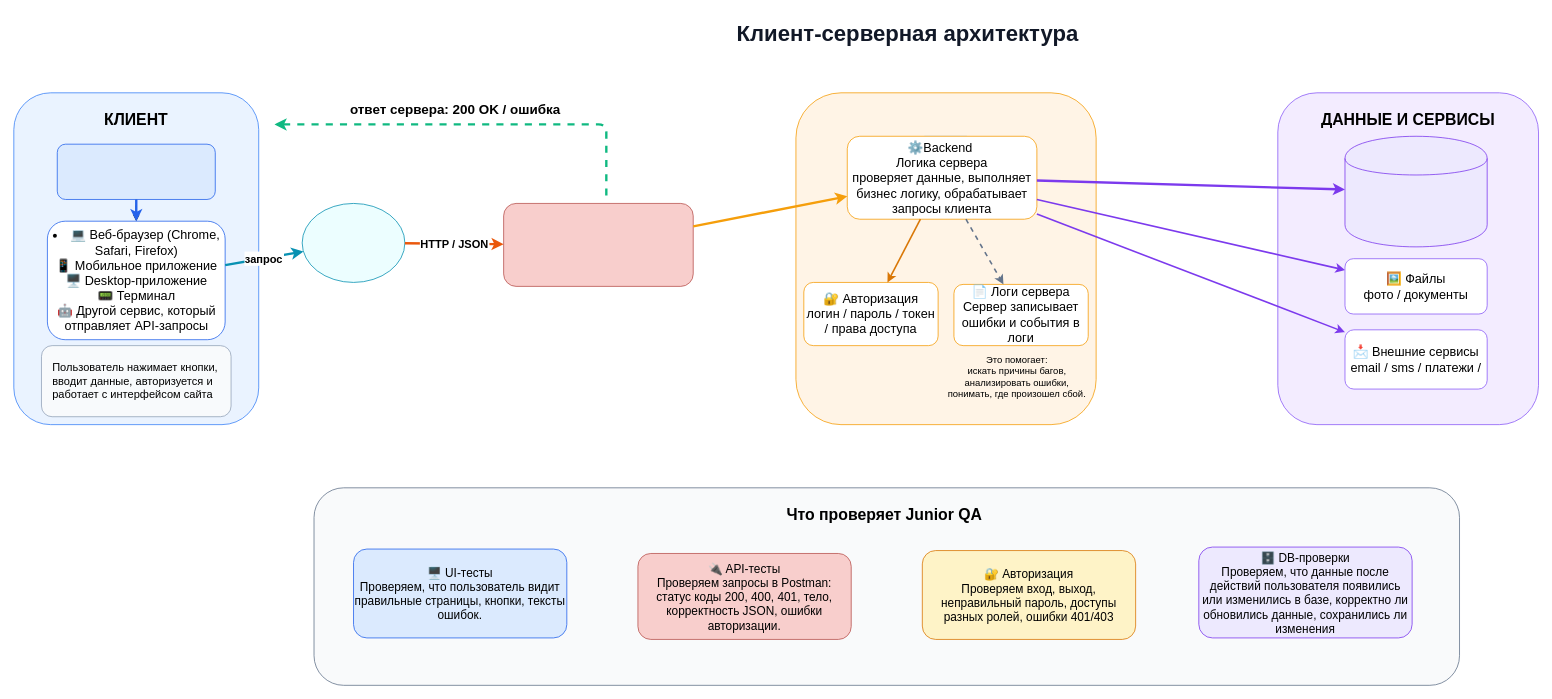
The diagram is 1552 pixels wide and 699 high, and some of its shapes have lost their labels. The shapes that lost their labels are listed below. From the top down, each one's centre as x and y in pixels, then its label:
(135,171): 👤 Пользователь
(1415,191): 🗄️ База данных ( нап. пользователи, заказы, платежи, товары)
(353,242): 🌐 HTTP ЗАПРОС
(598,244): 🔌 API сервера принимает запросы от клиента GET / POST / PUT / DELETE
